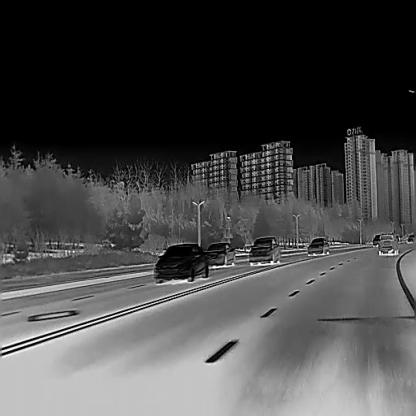car: (153, 242, 208, 283), (248, 236, 281, 265), (206, 242, 235, 266), (378, 233, 398, 256), (307, 237, 329, 256), (372, 234, 381, 246)
